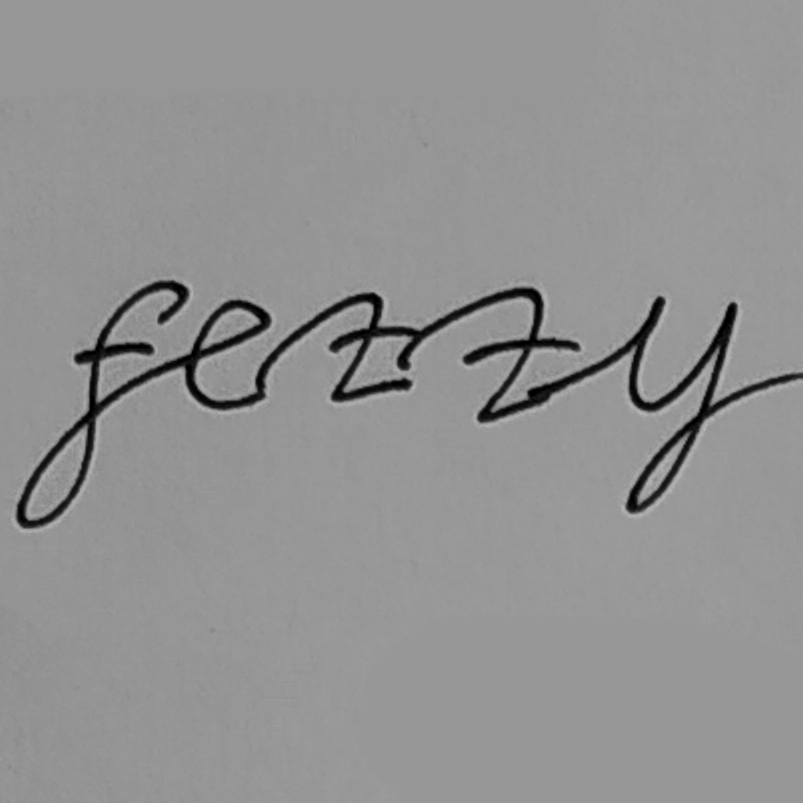e: (182, 294, 273, 415)
f: (14, 278, 192, 530)
y: (620, 291, 741, 518)
z: (459, 284, 585, 426), (320, 290, 411, 405)
